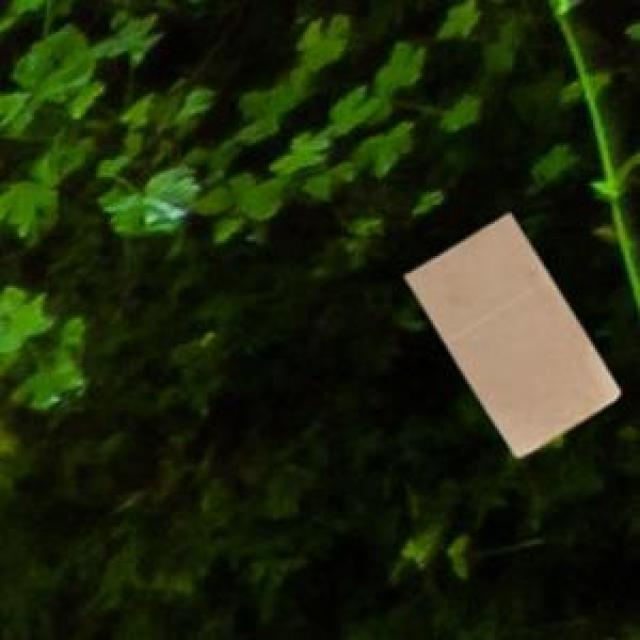paper: (401, 211, 617, 452)
